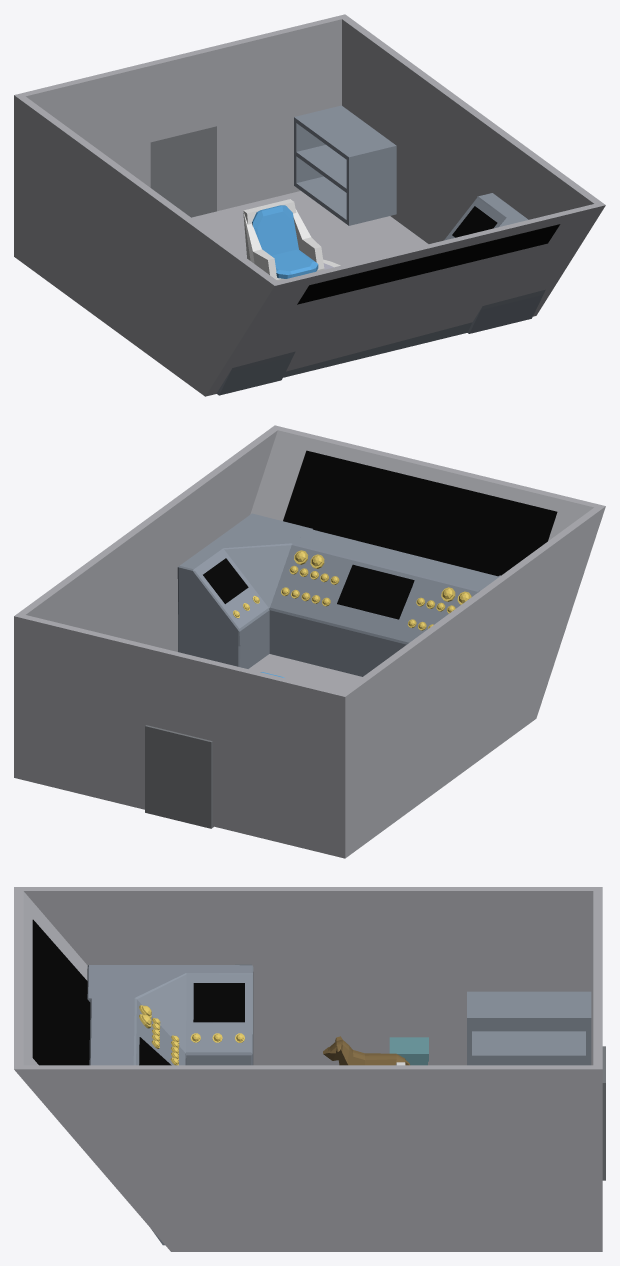
The model's file is ProjectNoah.fbx.
3 views of the same model, one above another, from view 1: azimuth 30°, elevation 25°; view 2: azimuth 150°, elevation 25°; view 3: azimuth 270°, elevation 25° (orthographic). The views are drawn at different scales.
Visible parts, largest first — view 1: Plane, Cube.004, Cube.001, Cube.003, 평면.007, Cube.012, Cube.008, 평면.008, 평면.006, Cube.007, 큐브.002; view 2: Plane, Cube.003, 평면.006, 평면.007, Cube.001, 큐브.001, 큐브.002; view 3: Plane, Cube.006, 평면.008, Cube.003, 평면.006, 큐브.003, 평면, Cube.005, Cube.001, 큐브.001.
Part boxes in pixels (<box>): Plane: <box>14,14,605,396</box>; Cube.004: <box>294,105,396,225</box>; Cube.001: <box>150,126,216,217</box>; Cube.003: <box>297,224,560,304</box>; 평면.007: <box>444,193,545,333</box>; Cube.012: <box>243,199,324,280</box>; Cube.008: <box>252,205,298,255</box>; 평면.008: <box>216,351,295,395</box>; 평면.006: <box>283,322,472,377</box>; Cube.007: <box>271,249,318,278</box>; 큐브.002: <box>452,206,497,237</box>; Plane: <box>14,425,605,858</box>; Cube.003: <box>283,450,557,576</box>; 평면.006: <box>269,529,497,676</box>; 평면.007: <box>177,513,312,668</box>; Cube.001: <box>145,725,213,828</box>; 큐브.001: <box>337,564,414,619</box>; 큐브.002: <box>203,558,248,603</box>; Plane: <box>14,887,602,1251</box>; Cube.006: <box>467,991,591,1065</box>; 평면.008: <box>87,964,253,1065</box>; Cube.003: <box>32,919,90,1065</box>; 평면.006: <box>89,998,186,1065</box>; 큐브.003: <box>193,983,244,1022</box>; 평면: <box>323,1036,409,1065</box>; Cube.005: <box>389,1037,428,1061</box>; Cube.001: <box>593,1046,605,1180</box>; 큐브.001: <box>139,1037,171,1065</box>.
Size of the model in its own units: 9949 by 4683 by 13643.
